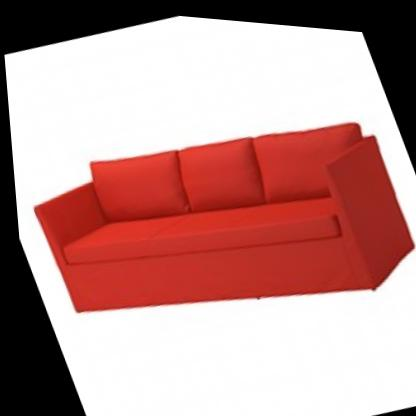Sofa: (2, 32, 416, 384)
